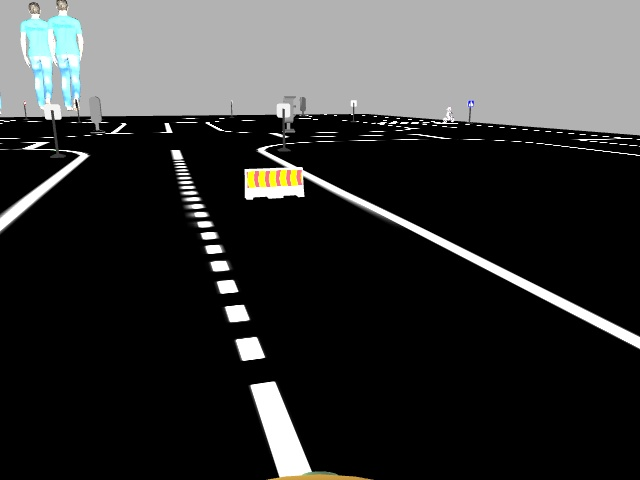ClosedRoadStand: (244, 167, 302, 194)
